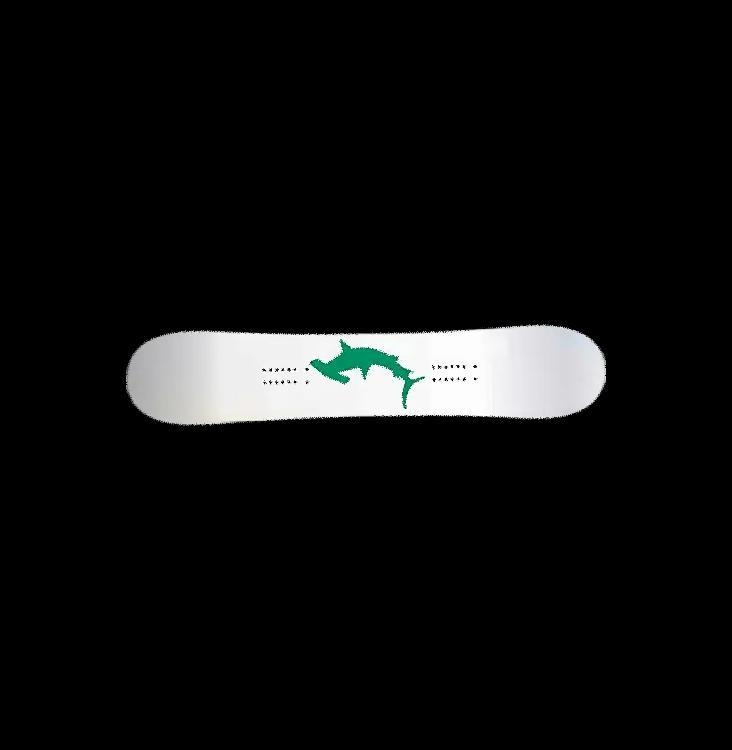Snowboard: (124, 323, 607, 425)
